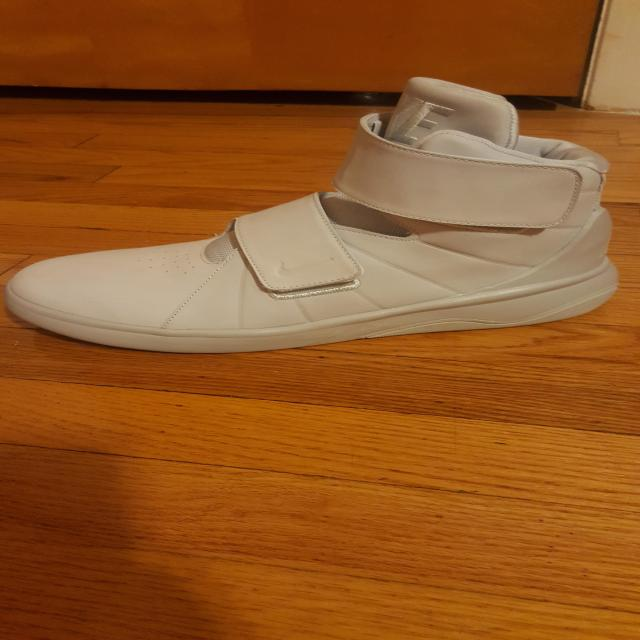shoe: (0, 70, 633, 365)
